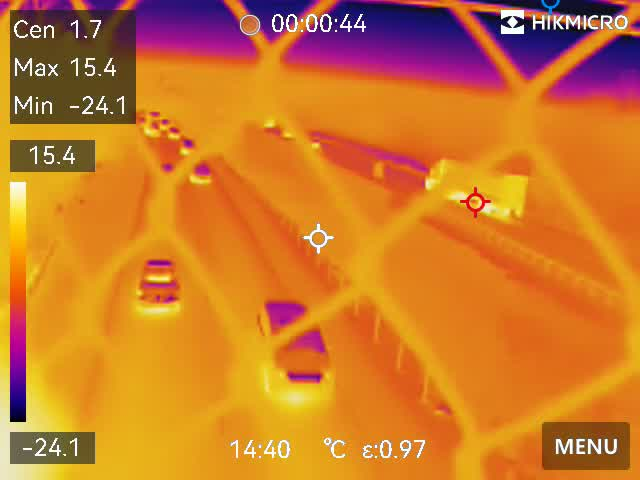heavyTruck: (423, 158, 535, 225)
largeCar: (251, 303, 337, 399)
smallCar: (139, 255, 183, 311)
vehicle: (185, 161, 218, 187), (142, 120, 160, 140), (176, 137, 198, 153), (166, 126, 186, 140), (158, 117, 171, 126)
